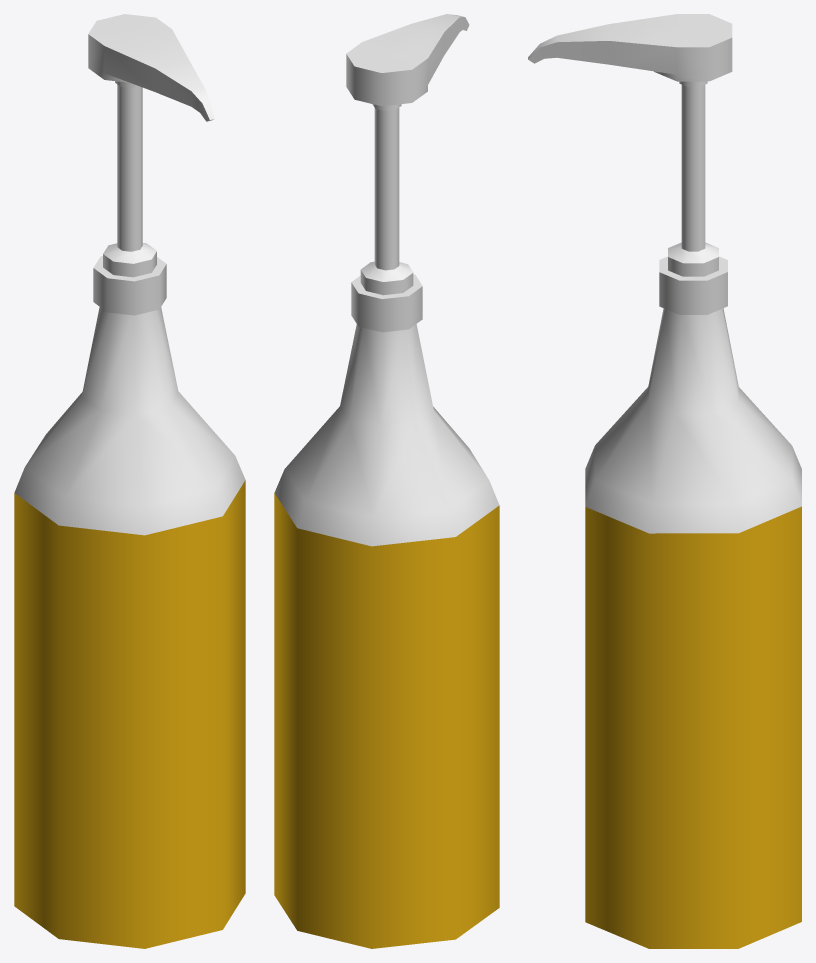
File: kitchen_mustard.FBX
The picture shows the model from 3 angles, left to right: view 1: azimuth 30°, elevation 25°; view 2: azimuth 150°, elevation 25°; view 3: azimuth 270°, elevation 25°; orthographic projection. The views are drawn at different scales.
Parts seen in each view (by area): view 1: kitchen_mustard; view 2: kitchen_mustard; view 3: kitchen_mustard.
Boxes of the visible parts, x1,y1,x2,y2 form: kitchen_mustard: (14, 14, 245, 948); kitchen_mustard: (274, 14, 499, 948); kitchen_mustard: (528, 14, 801, 948).
Size of the model in its own units: 10.64 by 47.23 by 13.43.
